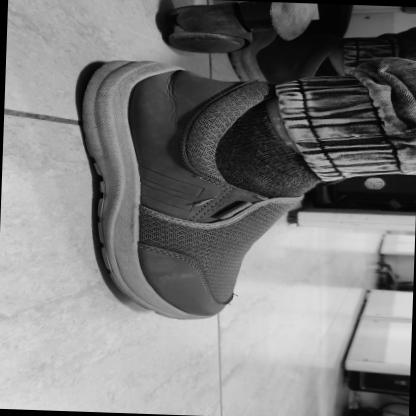ankle: (200, 142, 218, 149)
heel: (110, 65, 126, 73)
left_foot: (74, 59, 305, 325)
pinky: (225, 285, 231, 290)
toe: (164, 308, 174, 314)
